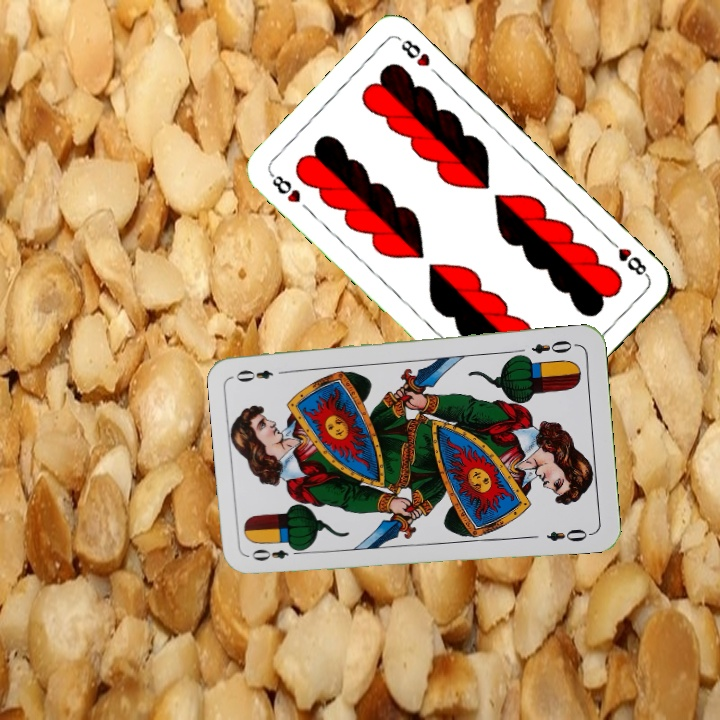EO: (247, 542, 305, 564), (527, 336, 579, 356)
H8: (604, 235, 652, 280), (266, 169, 303, 206)
